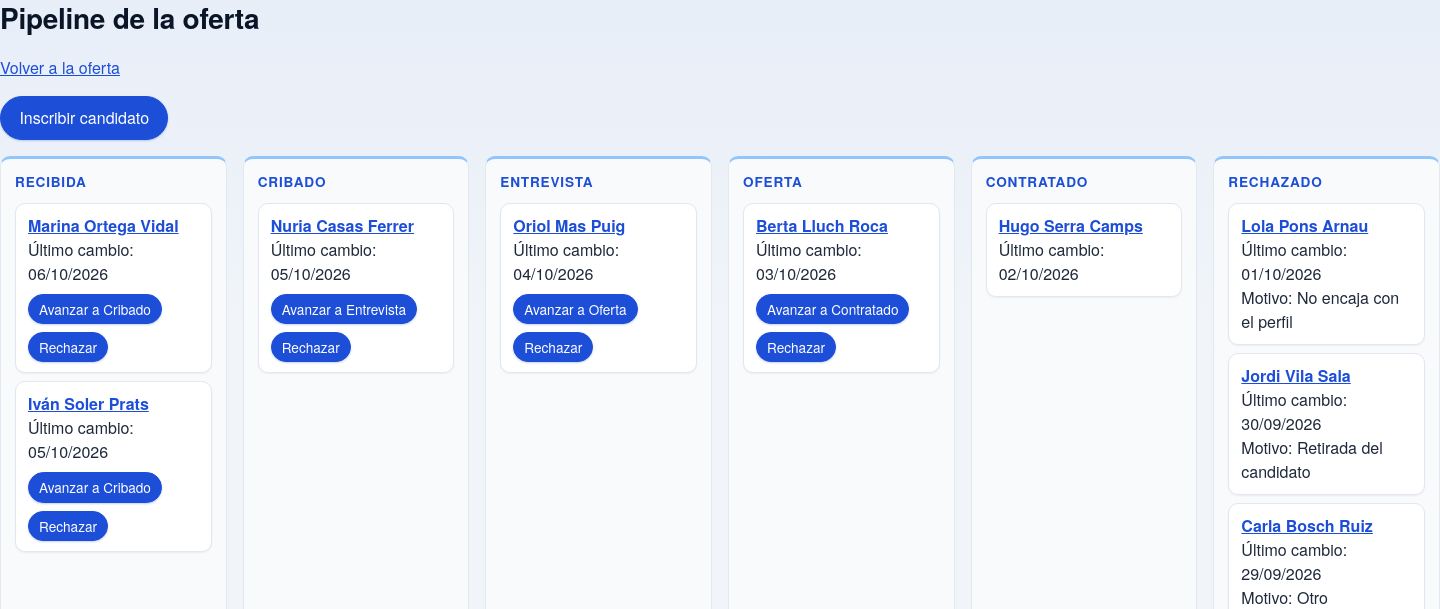
PipelineScreen: inscribir (RF-08) › EC-44: INVALID_TRANSITION → panel cerrado, alerta de la página con el foco, recarga sin Inscribir candidato
Step 1. Click the button "Inscribir candidato" → x=84, y=118, box x1=0 y1=96 x2=168 y2=140
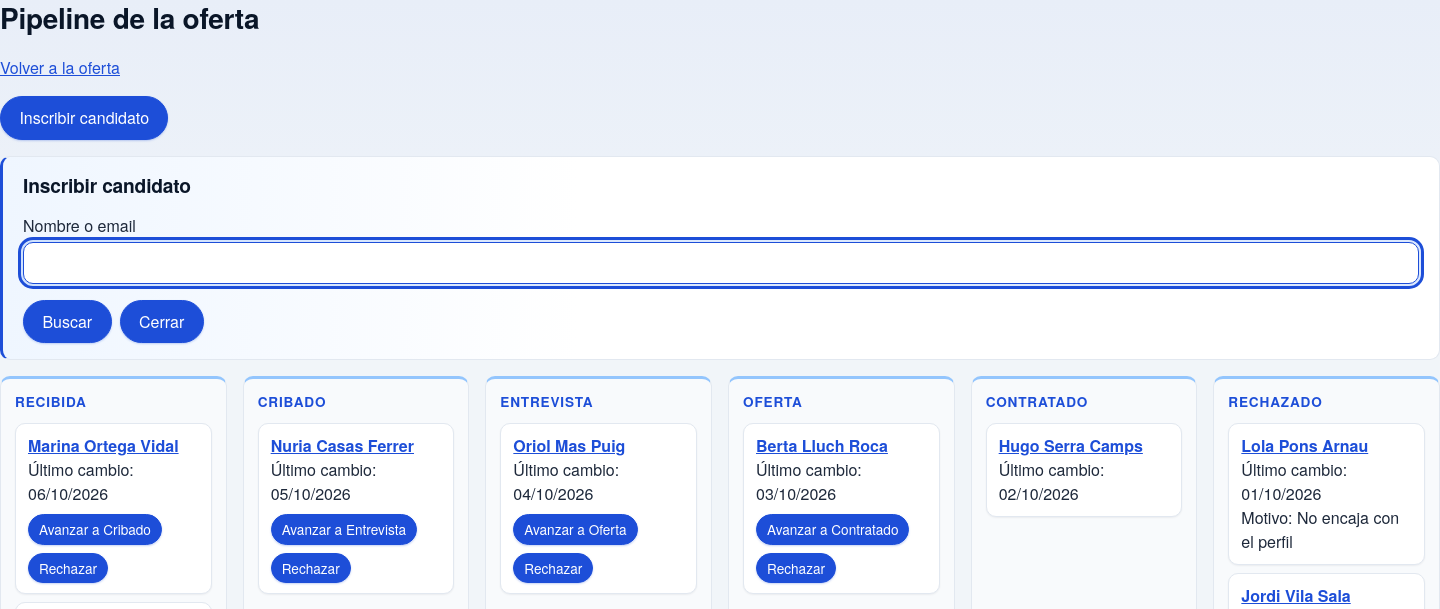
Step 2. Type "ana" into the search field labelled "Nombre o email" → x=721, y=263, box x1=23 y1=242 x2=1419 y2=284
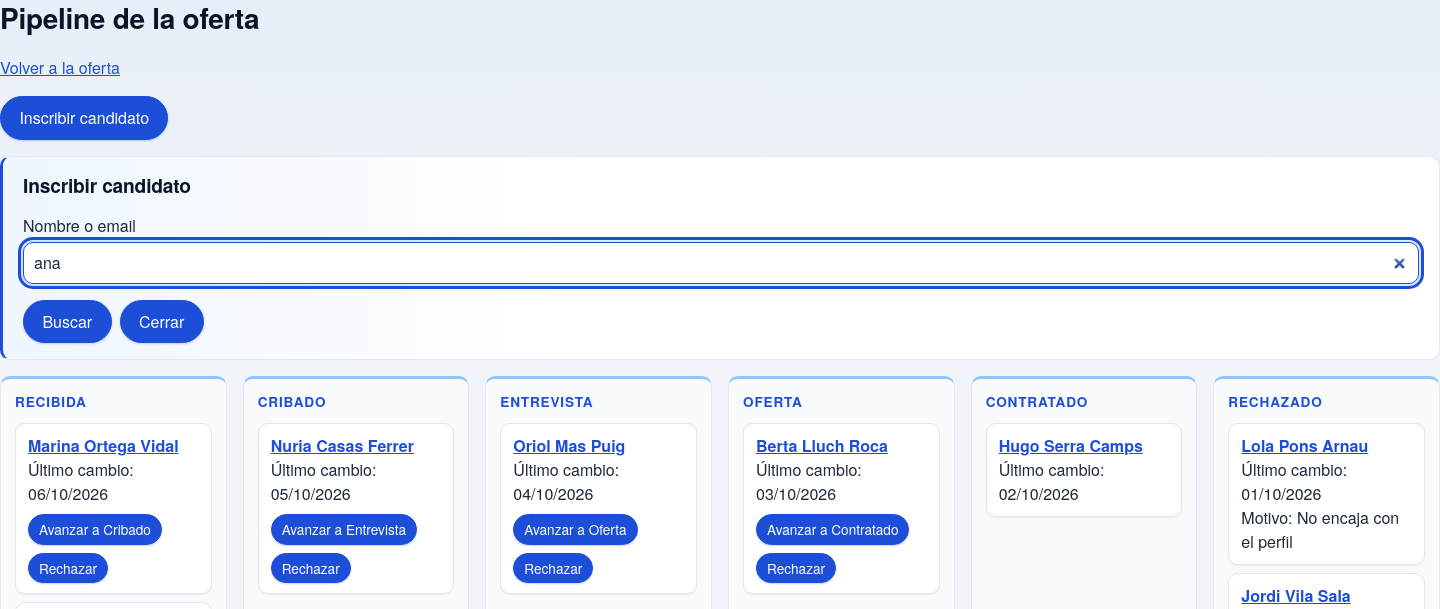
Step 3. Click the button "Buscar" → x=67, y=322, box x1=23 y1=300 x2=112 y2=344
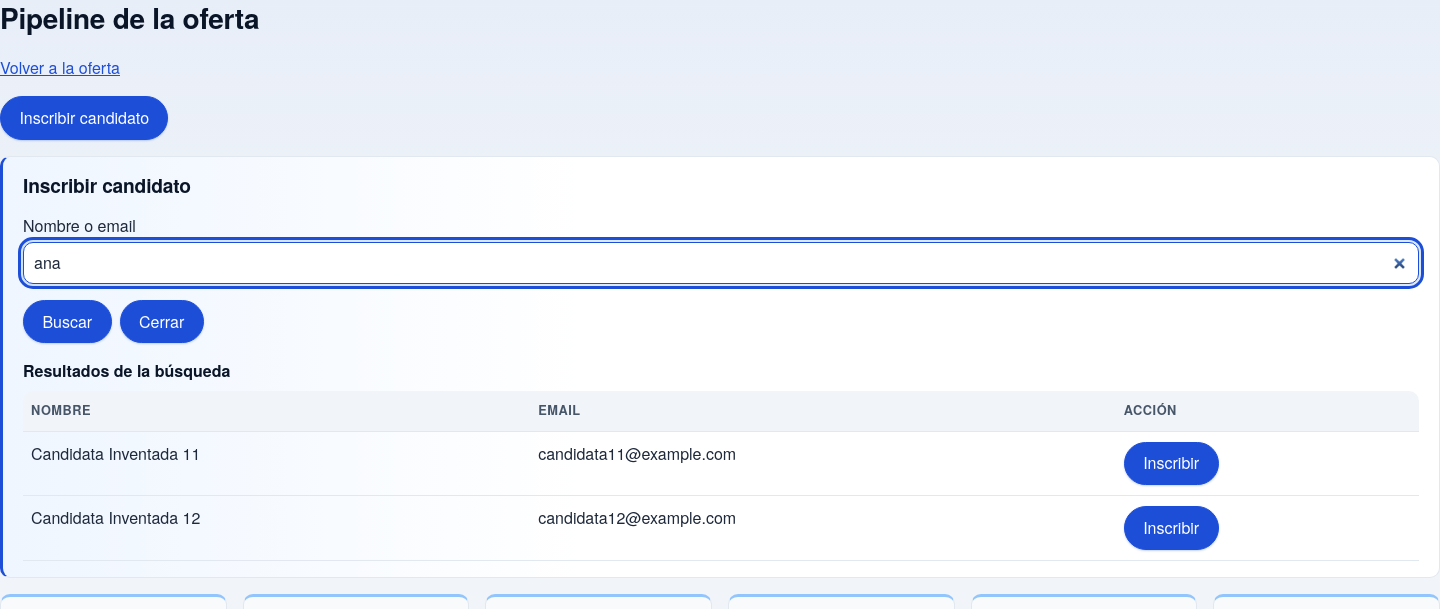
Now the table "Resultados de la búsqueda" is shown, box x1=23 y1=360 x2=1419 y2=561
Step 4. Click the button "Inscribir" in the row of "Candidata Inventada 12" → x=1171, y=528, box x1=1124 y1=506 x2=1219 y2=550
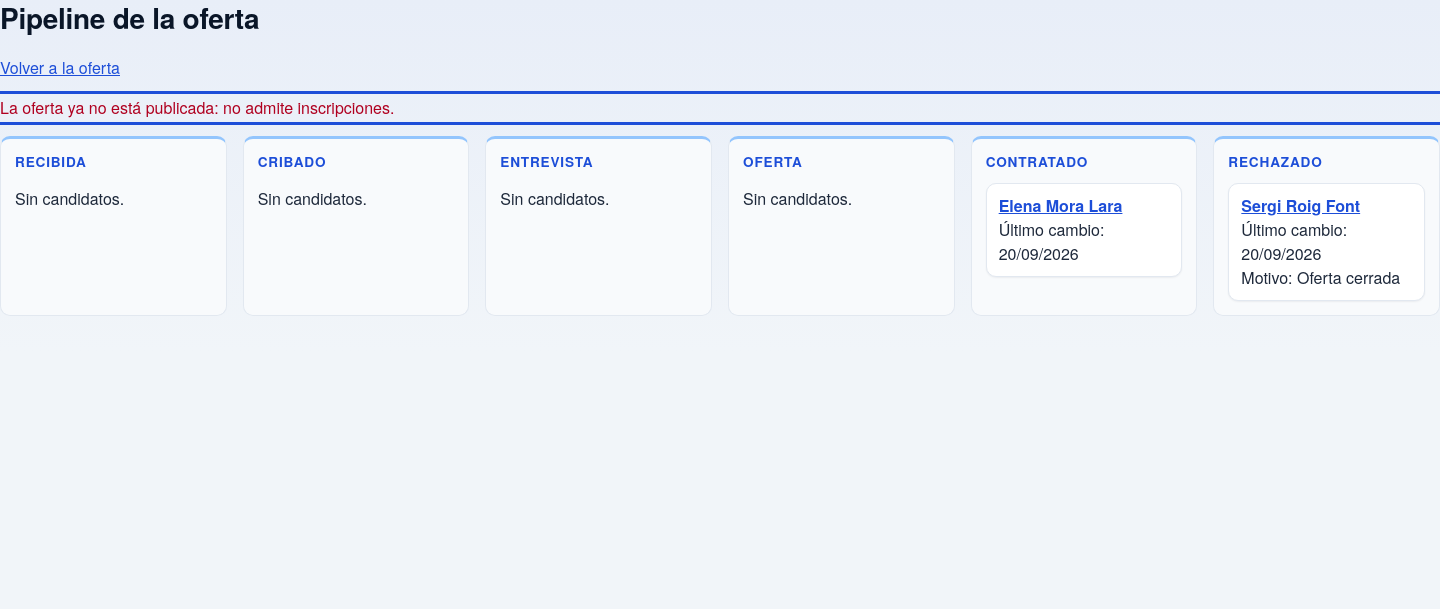
Now the button "Inscribir candidato" is gone
Now the label labelled "Nombre o email" is gone
Now the message reads "La oferta ya no está publicada: no admite inscripciones.", box x1=0 y1=96 x2=394 y2=119
